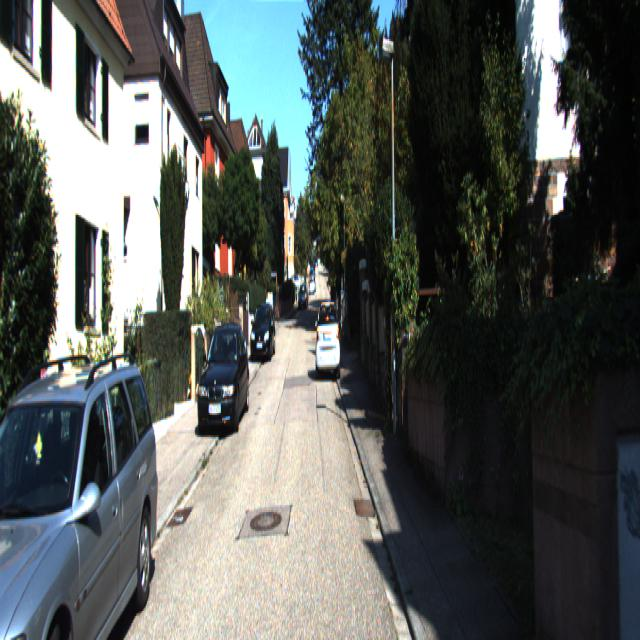Car: (0, 343, 162, 638), (196, 322, 251, 437), (316, 297, 340, 381), (251, 303, 277, 363)
